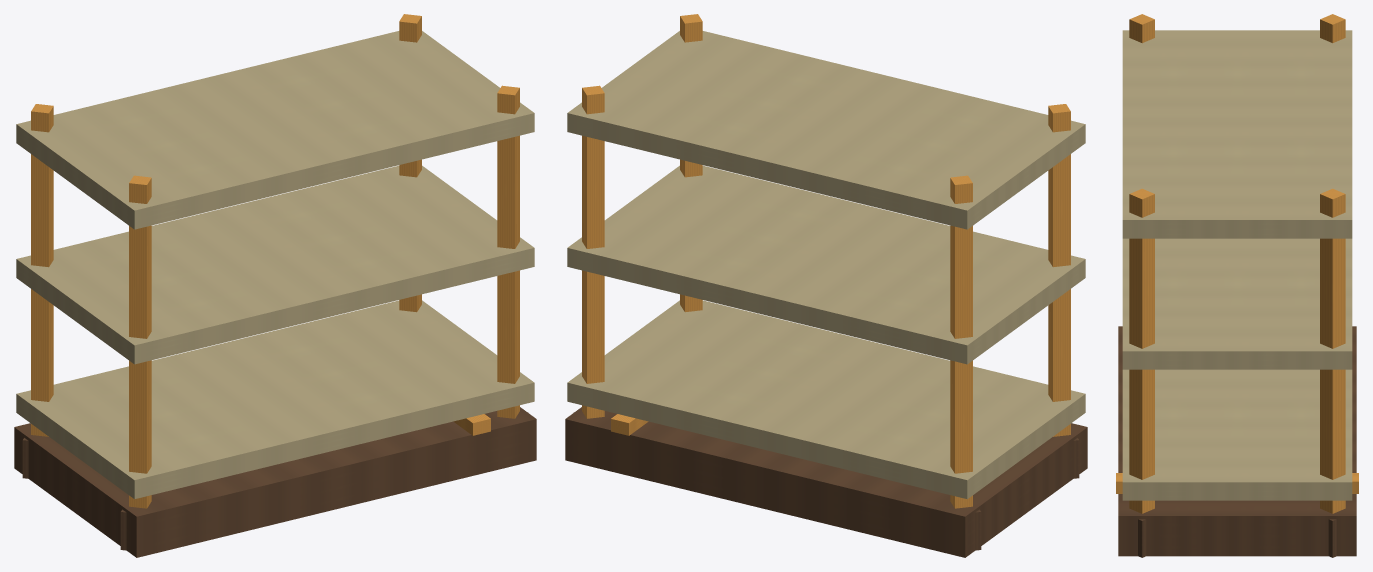
File: atlas100-s017-a06.lod2.glb
The picture shows the model from 3 angles, left to right: view 1: azimuth 30°, elevation 25°; view 2: azimuth 150°, elevation 25°; view 3: azimuth 270°, elevation 25°; orthographic projection. The views are drawn at different scales.
Visible parts, largest first — view 1: atlas100-s017-a06:part-013, atlas100-s017-a06:part-011, atlas100-s017-a06:part-012, atlas100-s017-a06:part-000, atlas100-s017-a06:part-005, atlas100-s017-a06:part-009, atlas100-s017-a06:part-003, atlas100-s017-a06:part-007; view 2: atlas100-s017-a06:part-013, atlas100-s017-a06:part-011, atlas100-s017-a06:part-012, atlas100-s017-a06:part-000, atlas100-s017-a06:part-003, atlas100-s017-a06:part-007, atlas100-s017-a06:part-005, atlas100-s017-a06:part-009; view 3: atlas100-s017-a06:part-013, atlas100-s017-a06:part-012, atlas100-s017-a06:part-011, atlas100-s017-a06:part-000, atlas100-s017-a06:part-007, atlas100-s017-a06:part-009, atlas100-s017-a06:part-003, atlas100-s017-a06:part-005, atlas100-s017-a06:part-008, atlas100-s017-a06:part-010.
Part boxes in pixels (x1,y1,x2,y2): atlas100-s017-a06:part-013: (16, 31, 534, 229); atlas100-s017-a06:part-011: (16, 300, 534, 499); atlas100-s017-a06:part-012: (16, 165, 534, 364); atlas100-s017-a06:part-000: (14, 407, 536, 557); atlas100-s017-a06:part-005: (129, 175, 151, 508); atlas100-s017-a06:part-009: (497, 85, 519, 418); atlas100-s017-a06:part-003: (31, 104, 53, 436); atlas100-s017-a06:part-007: (399, 14, 421, 312); atlas100-s017-a06:part-013: (567, 31, 1085, 229); atlas100-s017-a06:part-011: (567, 300, 1085, 499); atlas100-s017-a06:part-012: (567, 165, 1085, 364); atlas100-s017-a06:part-000: (565, 407, 1087, 557); atlas100-s017-a06:part-003: (950, 175, 972, 508); atlas100-s017-a06:part-007: (582, 85, 604, 418); atlas100-s017-a06:part-005: (1048, 104, 1070, 436); atlas100-s017-a06:part-009: (680, 14, 702, 312); atlas100-s017-a06:part-013: (1122, 30, 1352, 238); atlas100-s017-a06:part-012: (1122, 238, 1352, 369); atlas100-s017-a06:part-011: (1122, 369, 1352, 500); atlas100-s017-a06:part-000: (1118, 326, 1356, 556); atlas100-s017-a06:part-007: (1320, 188, 1345, 513); atlas100-s017-a06:part-009: (1129, 188, 1154, 513); atlas100-s017-a06:part-003: (1320, 14, 1345, 43); atlas100-s017-a06:part-005: (1129, 14, 1154, 43); atlas100-s017-a06:part-008: (1328, 519, 1336, 557); atlas100-s017-a06:part-010: (1138, 519, 1146, 557).
Bounding box in the file's own units: 2.69 × 2.3 × 1.43.
3 materials, 3 textured.
